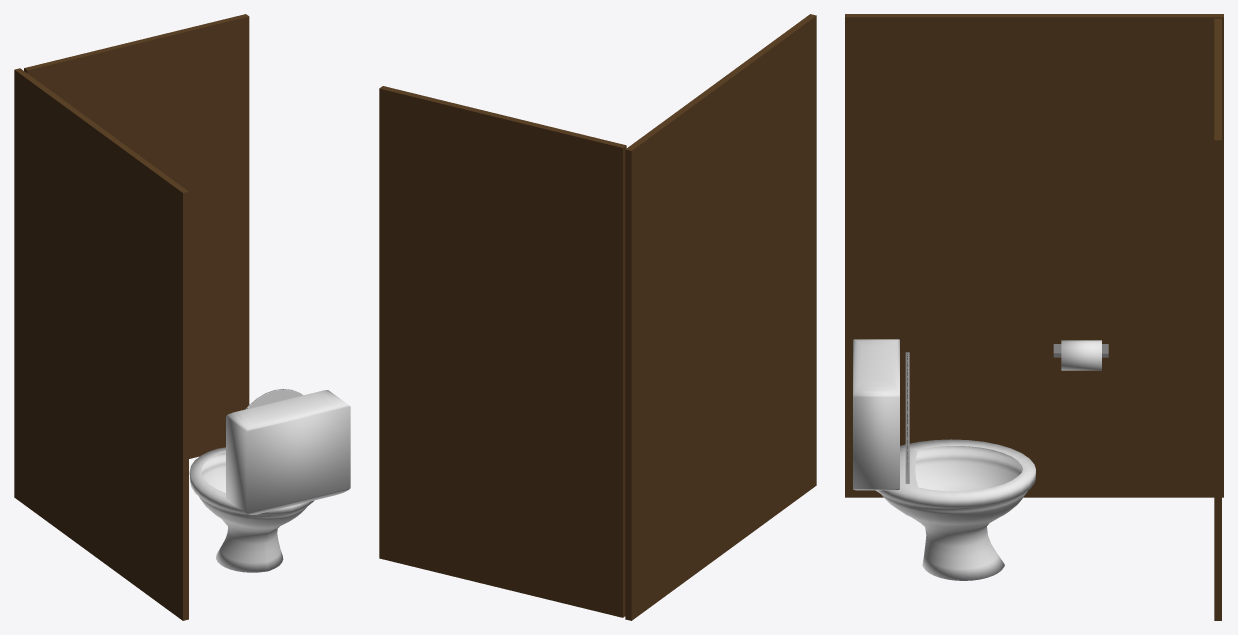
Rendered from Bano Universidad.fbx.
The picture shows the model from 3 angles, left to right: view 1: azimuth 30°, elevation 25°; view 2: azimuth 150°, elevation 25°; view 3: azimuth 270°, elevation 25°; orthographic projection. The views are drawn at different scales.
Visible parts, largest first — view 1: Cube.002, Cube.003, Cube, Cylinder, Cylinder.003; view 2: Cube.003, Cube.002; view 3: Cube.002, Cylinder, Cube, Cube.003, Cylinder.001, Cylinder.003.
Boxes of the visible parts, bbox=[...] form: Cube.002: bbox=[14, 68, 188, 620]; Cube.003: bbox=[24, 14, 249, 458]; Cube: bbox=[226, 390, 350, 515]; Cylinder: bbox=[189, 447, 314, 572]; Cylinder.003: bbox=[245, 389, 302, 409]; Cube.003: bbox=[379, 86, 626, 617]; Cube.002: bbox=[625, 14, 816, 620]; Cube.002: bbox=[845, 14, 1223, 497]; Cylinder: bbox=[875, 439, 1035, 580]; Cube: bbox=[853, 339, 899, 490]; Cube.003: bbox=[1214, 18, 1221, 620]; Cylinder.001: bbox=[1061, 340, 1101, 370]; Cylinder.003: bbox=[905, 352, 909, 483].
Size of the model in its own units: 395 by 708 by 500.
